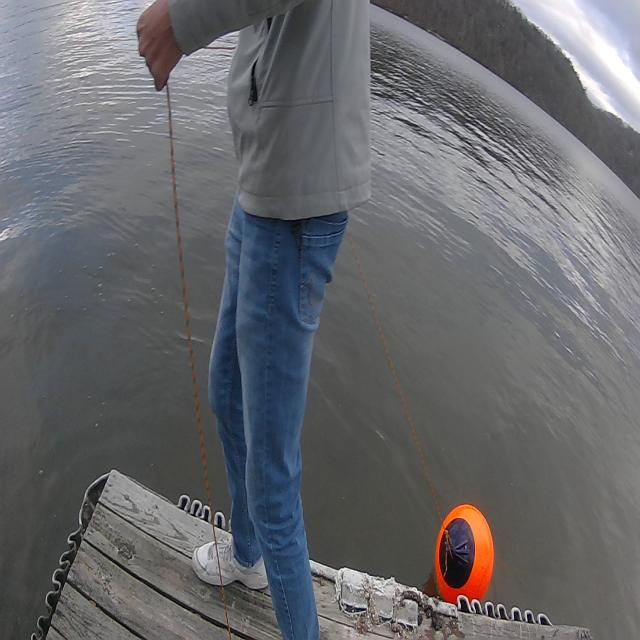Buoy: (430, 498, 497, 614)
